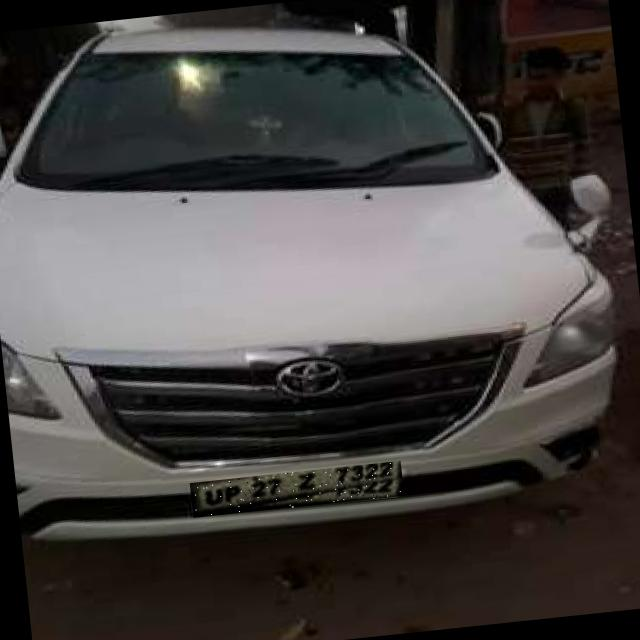Plate: (190, 462, 405, 519)
